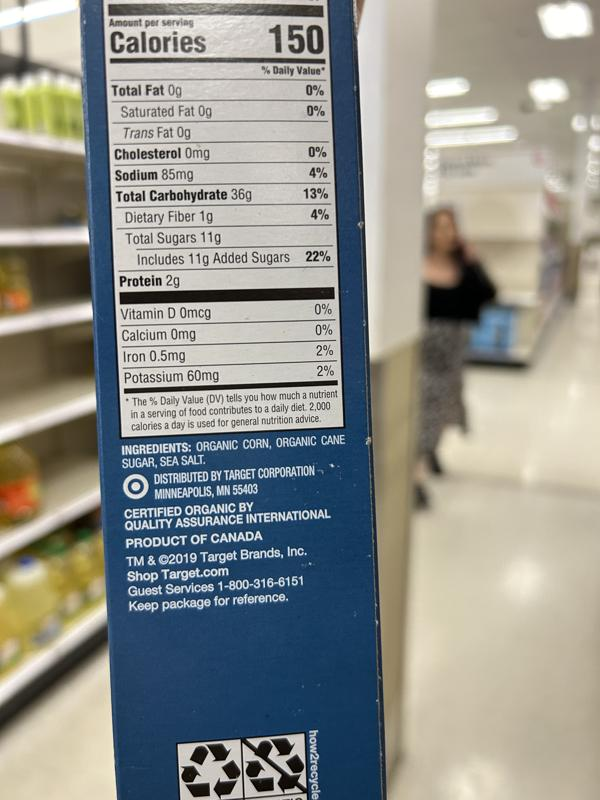ingredients: (118, 433, 348, 469)
